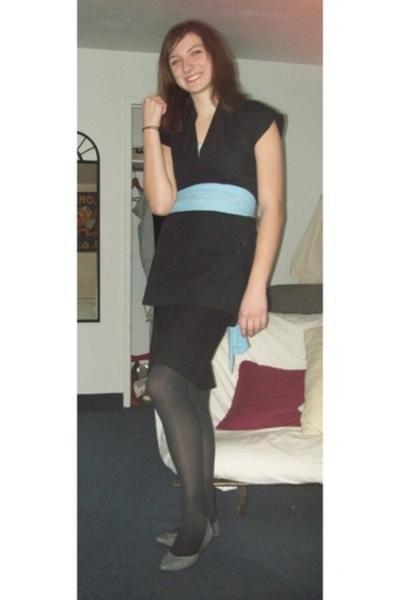bag: (216, 325, 250, 363)
dress: (141, 94, 285, 387)
shoe: (152, 521, 227, 573)
